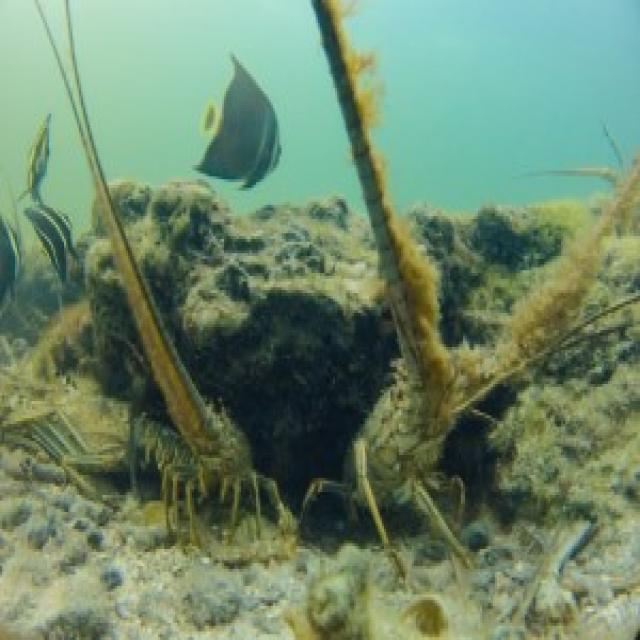lobsters: (264, 0, 640, 623), (0, 148, 373, 637)
